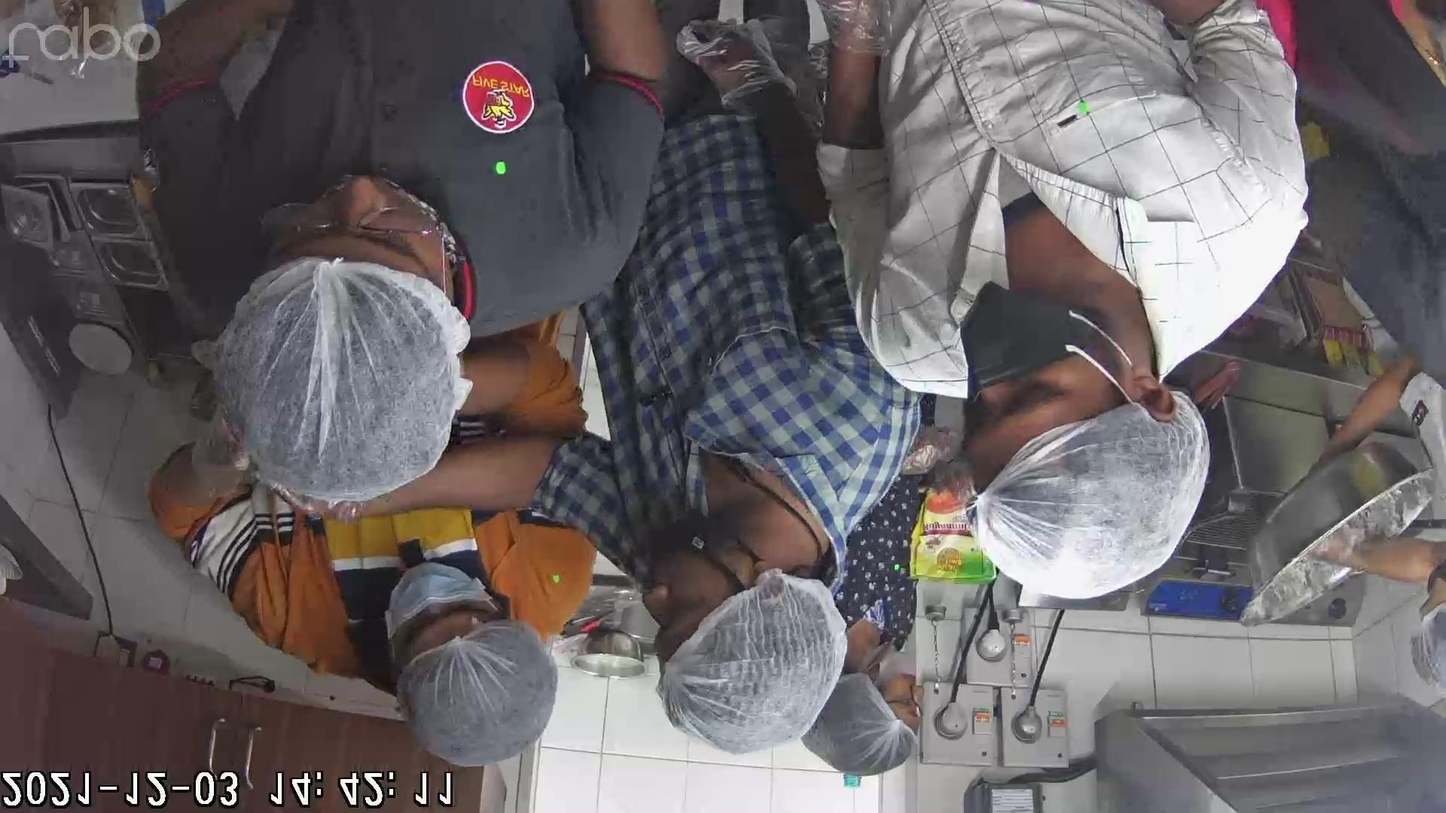gloves: (182, 247, 543, 520), (965, 372, 1226, 649), (674, 553, 851, 763), (367, 618, 574, 773), (668, 8, 805, 123), (824, 6, 897, 72)
mask: (971, 278, 1112, 433), (393, 536, 488, 647)
no_hairnet: (288, 152, 448, 270), (650, 517, 732, 651), (879, 645, 925, 742)
